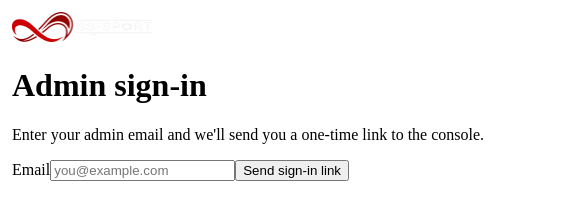
Scenario: SignInPanel (W-1): its own client › asks the site's own link route for its audience when no client is given
Step 1. Type "owner@ss-sport.co" into the field labelled "Email" → (143, 170), box [50,160,235,181]
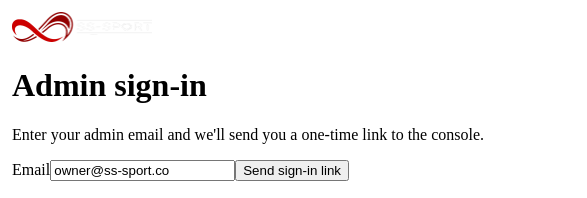
Step 2. Click the button "Send sign-in link" → (292, 170), box [235,160,349,181]
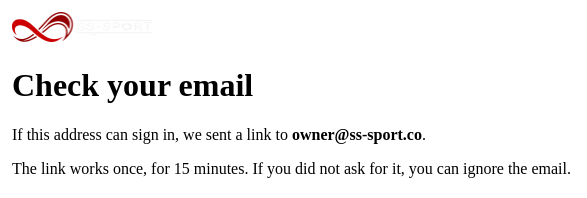
Check: the heading "Check your email" is shown, box [12,67,253,103]
